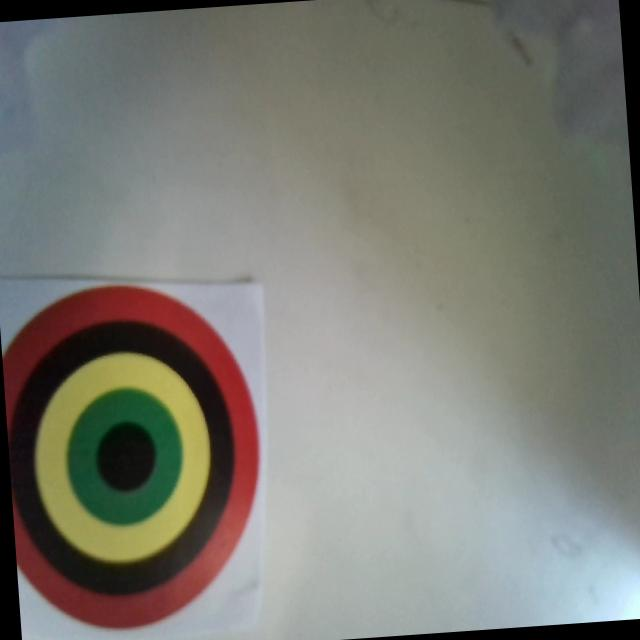cogn: (0, 277, 268, 637)
